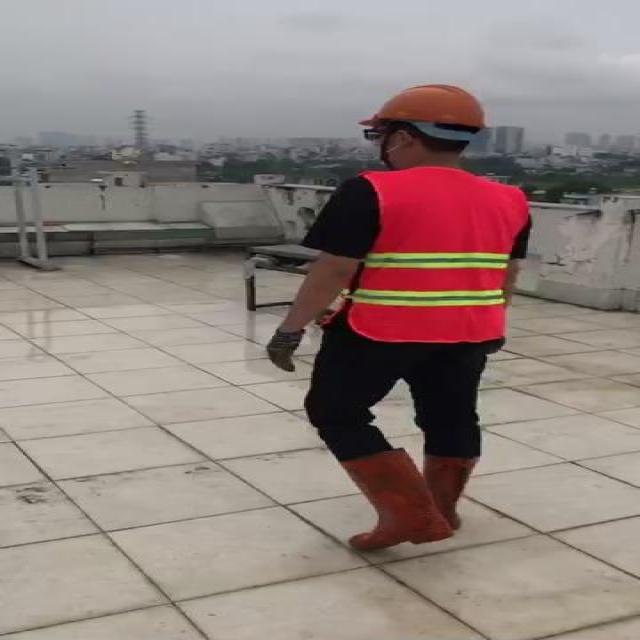boots: (340, 449, 444, 551), (419, 451, 482, 534)
hand_glove: (265, 329, 304, 373)
head_helmet: (353, 81, 499, 133)
person: (250, 74, 548, 560)
vest: (342, 168, 526, 340)
